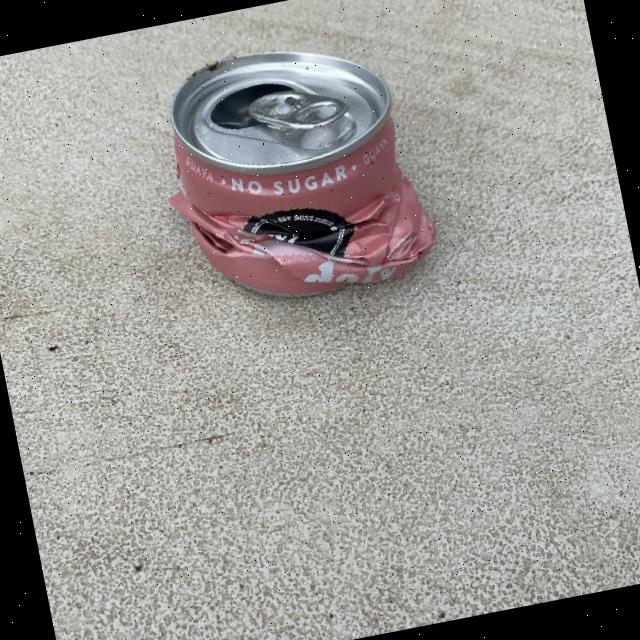metal: (142, 23, 442, 320)
